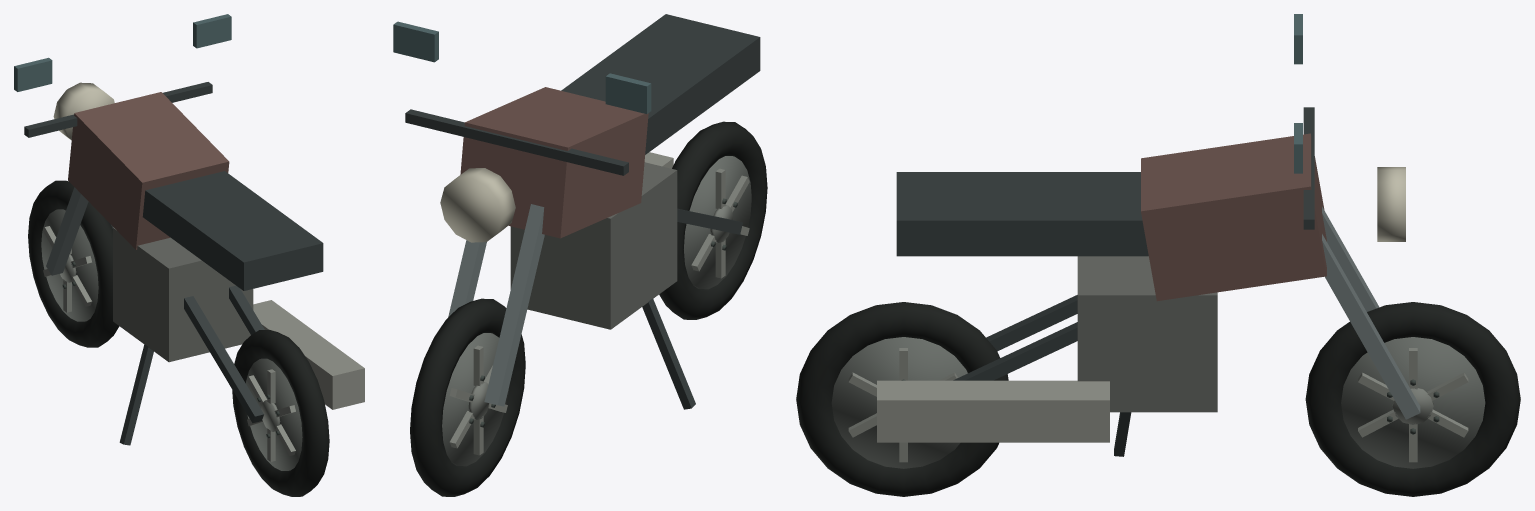
File: motorcycle.glb
3 renders of one model, left to right at view 1: azimuth 30°, elevation 25°; view 2: azimuth 150°, elevation 25°; view 3: azimuth 270°, elevation 25°, orthographic. The views are drawn at different scales.
Visible parts, largest first — view 1: motorcycle; view 2: motorcycle; view 3: motorcycle.
Boxes of the visible parts, box(x1,y1,x2,y2) form: motorcycle: box(14, 14, 364, 496); motorcycle: box(393, 14, 767, 496); motorcycle: box(796, 14, 1520, 496).
Size of the model in its own units: 0.86 by 1.29 by 2.02.
